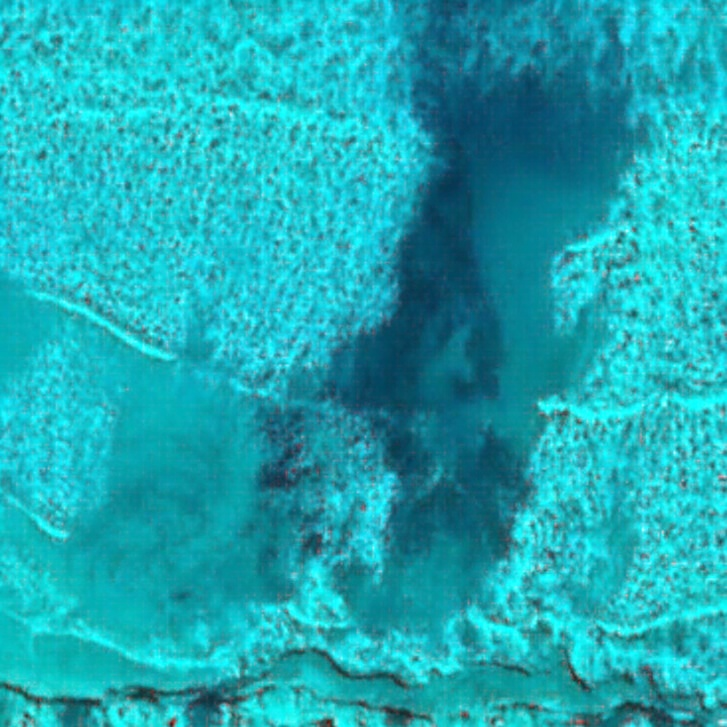rip_current: (295, 33, 619, 652)
